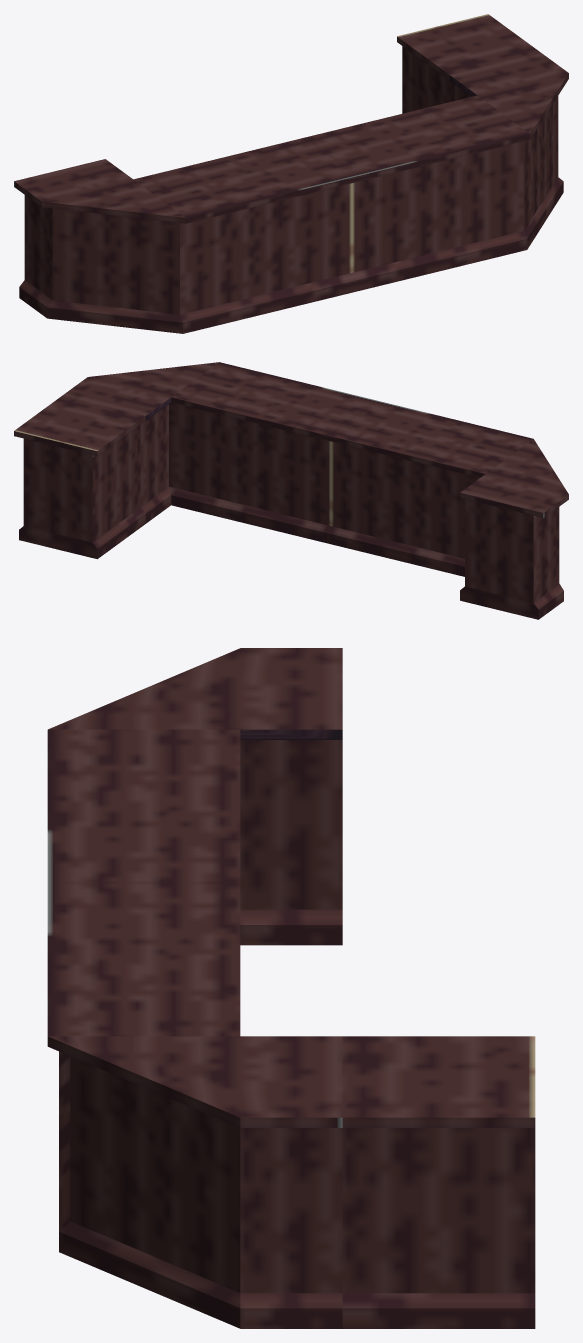
Rendered from Bar.fbx.
3 views of the same model, one above another, from view 1: azimuth 30°, elevation 25°; view 2: azimuth 150°, elevation 25°; view 3: azimuth 270°, elevation 25° (orthographic). The views are drawn at different scales.
Parts seen in each view (by area): view 1: Cube.006; view 2: Cube.006; view 3: Cube.006.
Boxes of the visible parts, x1=… form: Cube.006: x1=14, y1=14, x2=568, y2=333; Cube.006: x1=14, y1=362, x2=568, y2=619; Cube.006: x1=47, y1=648, x2=535, y2=1328.
Size of the model in its own units: 6.12 by 2.69 by 1.31.
